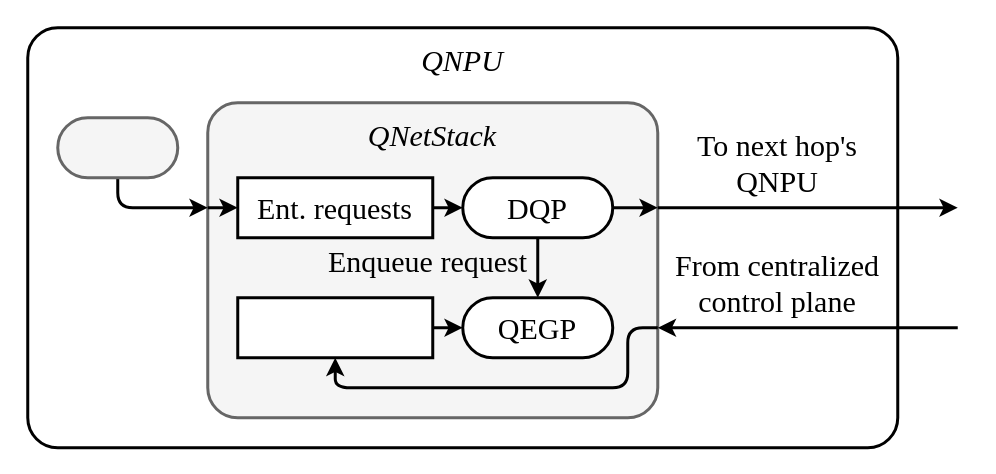
Some shapes in this 996 by 474 pixel diagram are drawn without their labels. The shapes that lost their labels are listed below. From the top down, each one's centre as x and y in pixels, then its label:
At point 117,147: "EMU".
At point 335,327: "Net. schedule".
